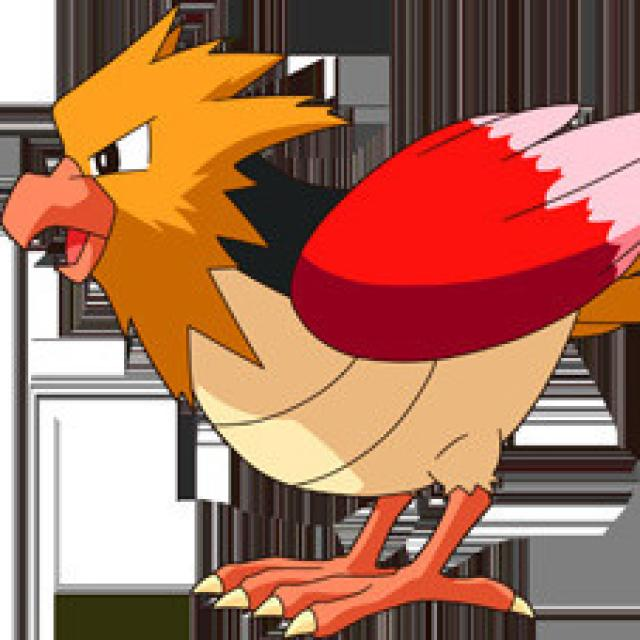Spearow: (32, 93, 580, 605)
